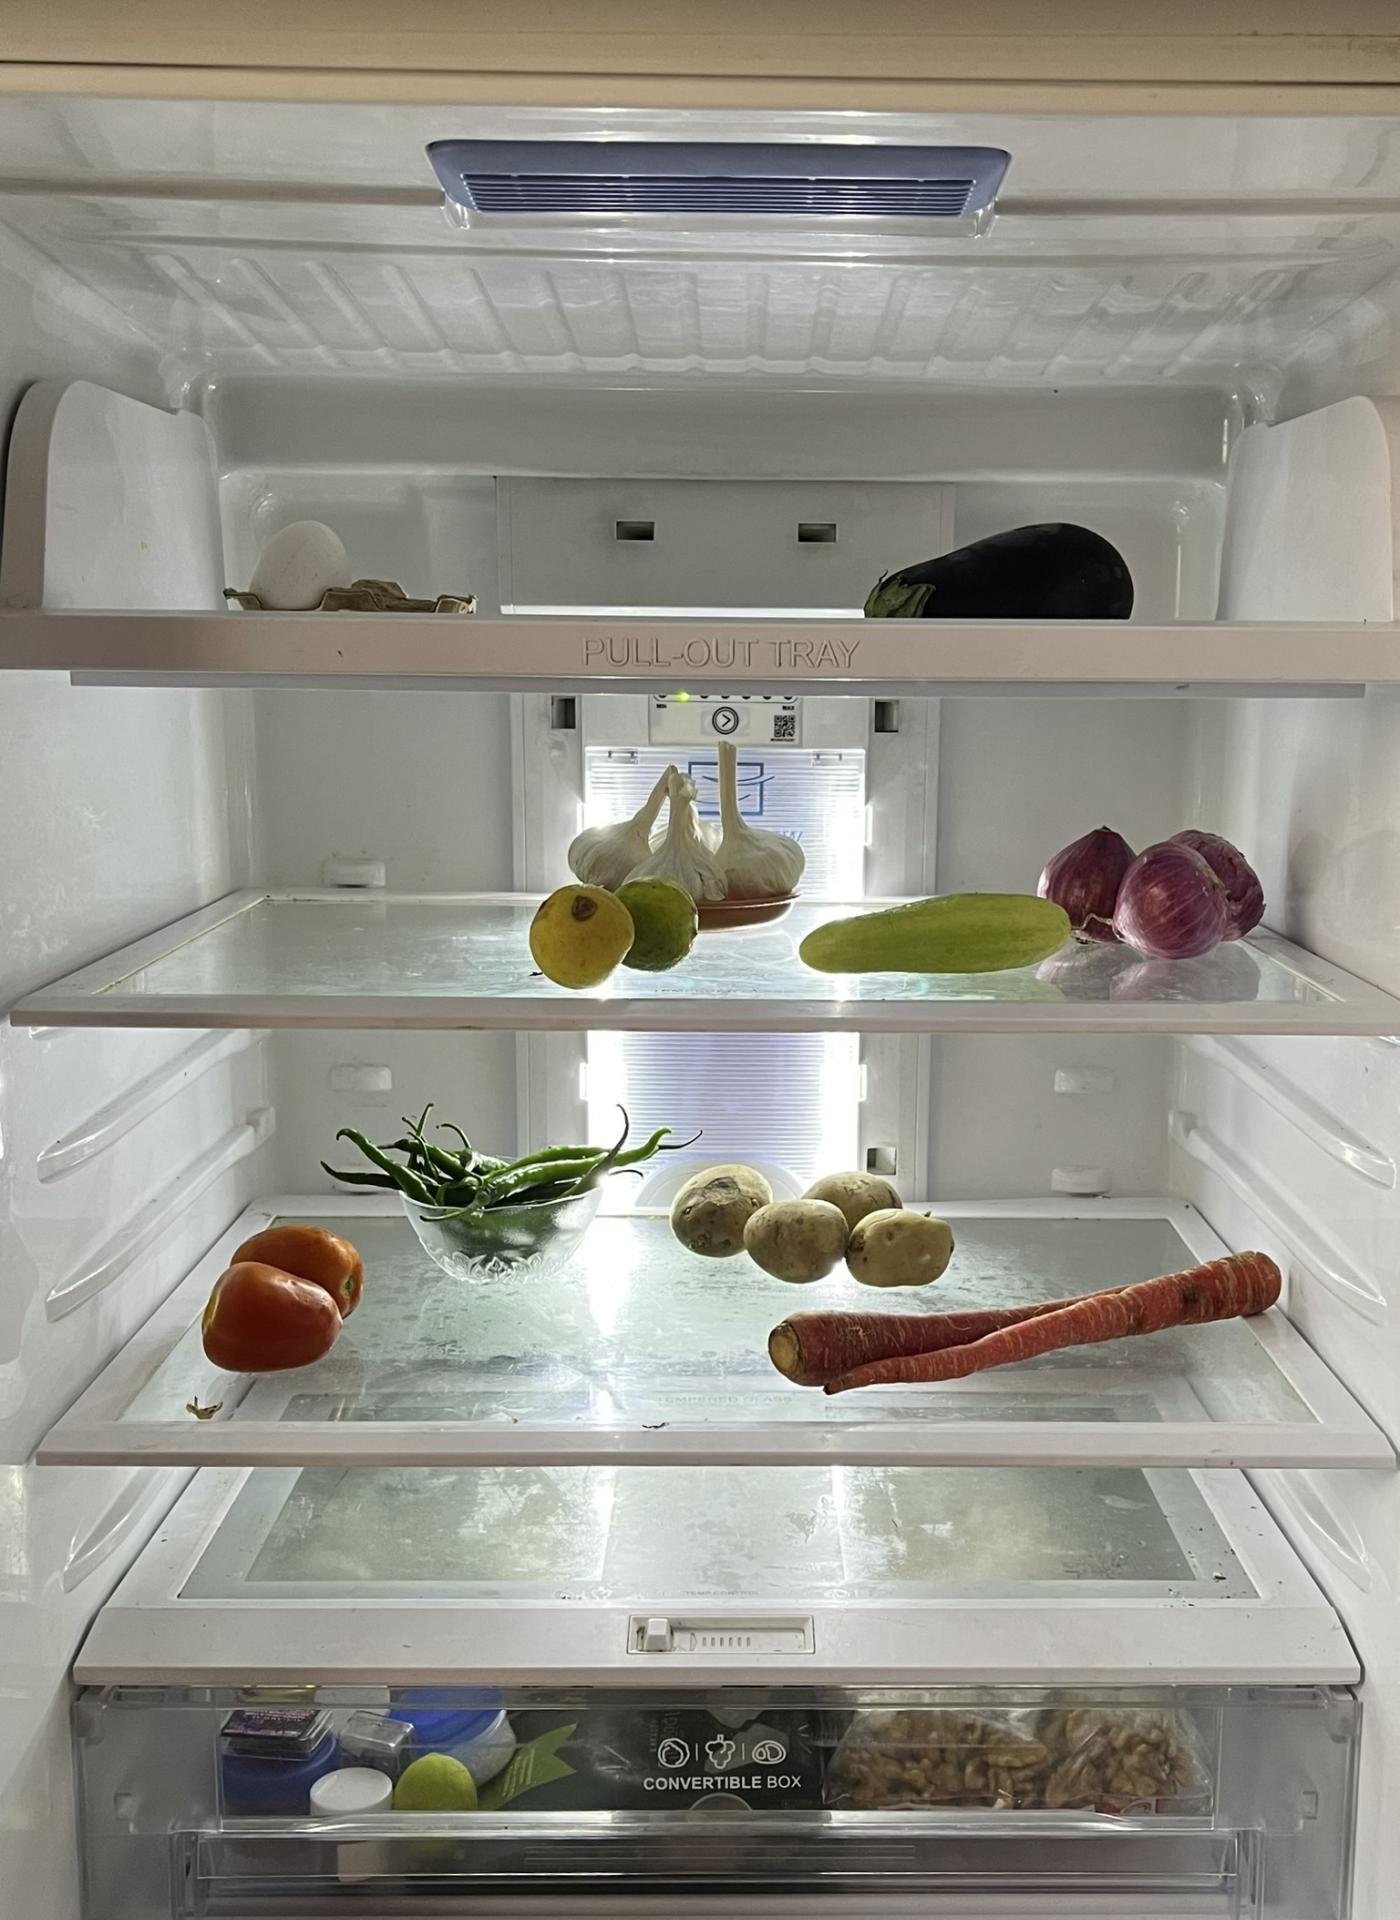carrots: (747, 1240, 1288, 1410)
chillies: (316, 1109, 693, 1282)
cucumber: (802, 894, 1085, 975)
egg: (225, 510, 361, 616)
garlic: (559, 741, 811, 900)
lemon: (513, 878, 717, 984)
onion: (1042, 824, 1276, 963)
potato: (662, 1160, 969, 1285)
tomato: (194, 1219, 374, 1376)
